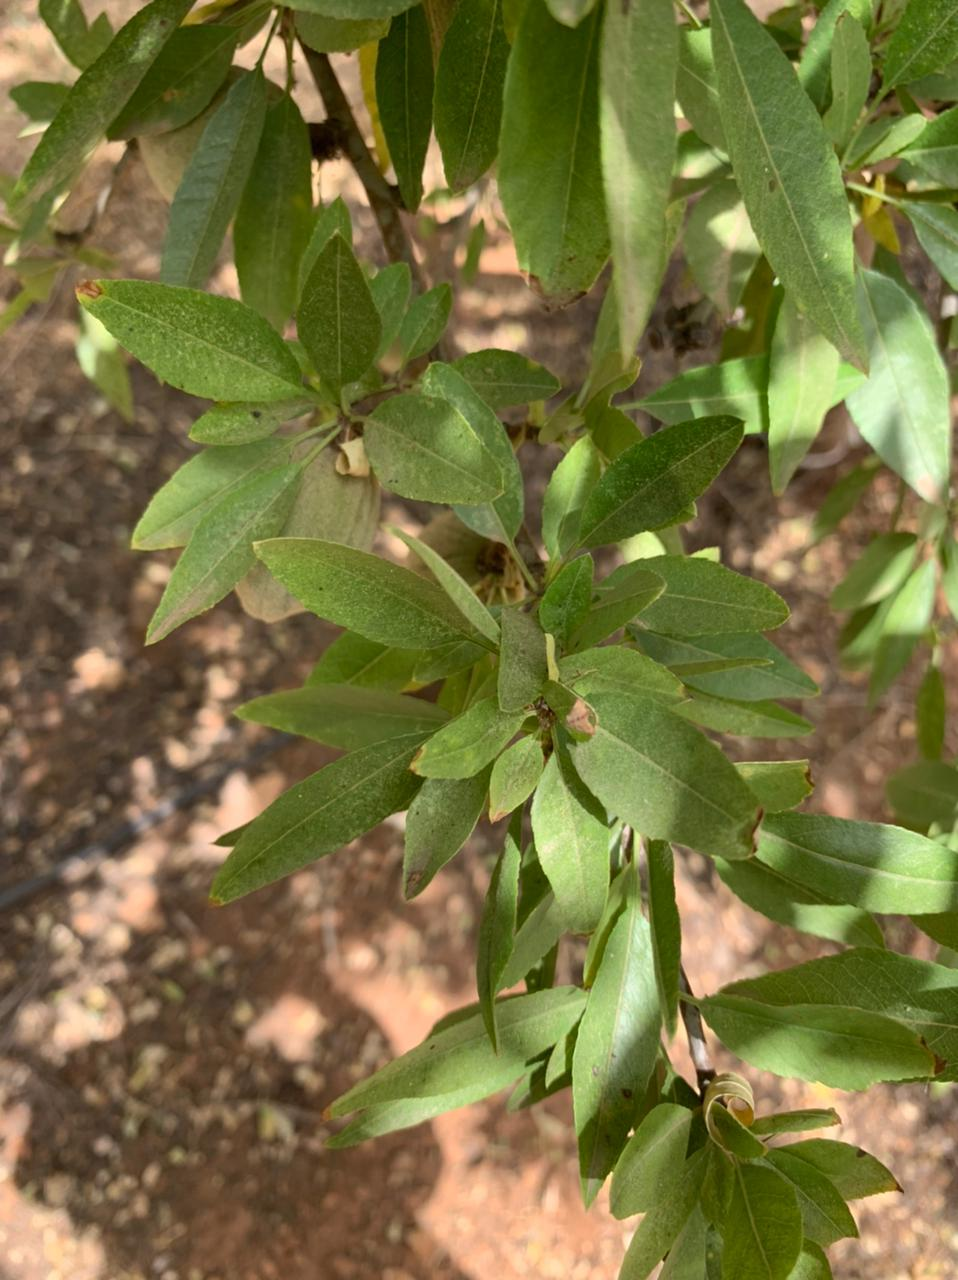othyorinques: (566, 690, 766, 861), (693, 992, 952, 1094)
